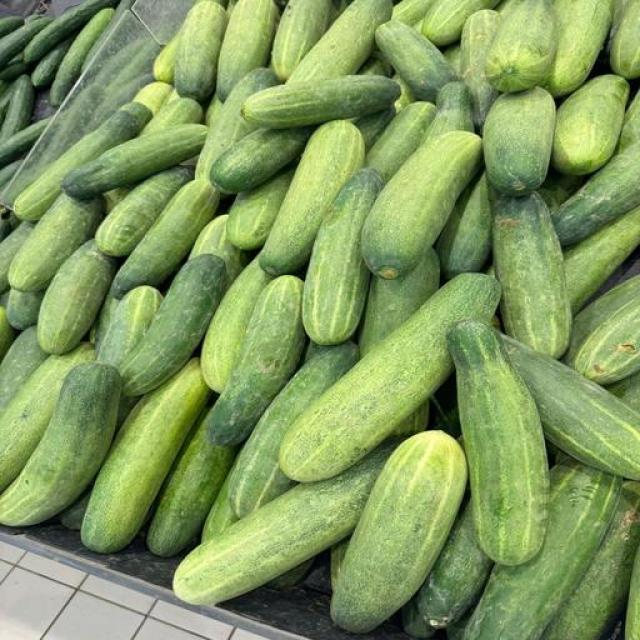organic: (280, 274, 499, 482), (174, 443, 394, 603), (464, 460, 621, 639), (332, 432, 467, 632), (82, 359, 209, 553), (448, 322, 548, 566), (229, 343, 358, 517), (0, 363, 121, 526), (503, 337, 639, 479), (363, 132, 482, 278), (205, 275, 304, 446), (259, 120, 364, 274), (14, 103, 151, 221), (120, 254, 227, 396), (544, 483, 639, 639), (303, 169, 383, 344), (0, 343, 93, 491), (492, 193, 571, 357), (112, 180, 218, 297), (147, 422, 236, 557), (62, 124, 207, 198), (413, 502, 493, 631), (202, 258, 272, 393), (9, 194, 103, 291), (195, 69, 277, 178), (38, 240, 116, 354), (553, 143, 639, 244), (359, 248, 439, 356), (95, 167, 192, 256), (288, 0, 392, 83), (359, 249, 439, 356), (242, 75, 399, 128), (565, 277, 639, 384), (483, 88, 556, 196), (564, 208, 639, 313), (552, 74, 628, 174), (544, 0, 619, 97), (210, 128, 313, 193), (375, 20, 456, 102), (485, 0, 557, 92), (83, 39, 157, 126), (49, 8, 114, 106), (565, 277, 639, 361), (217, 0, 278, 101), (435, 173, 492, 279), (84, 39, 158, 117), (24, 0, 116, 62), (365, 102, 436, 181), (174, 0, 227, 102), (227, 170, 293, 251), (97, 287, 162, 369), (272, 0, 333, 82), (460, 9, 499, 129), (84, 39, 157, 103), (189, 215, 248, 283), (0, 328, 47, 412), (83, 0, 136, 72), (422, 0, 499, 47), (423, 82, 473, 143), (0, 17, 53, 68), (202, 468, 238, 543), (0, 118, 51, 166), (142, 98, 203, 136), (0, 75, 34, 143), (610, 0, 639, 79), (0, 223, 33, 292), (32, 38, 73, 88), (354, 105, 396, 151), (538, 170, 583, 211), (133, 77, 178, 117), (89, 293, 119, 352), (0, 54, 26, 114), (7, 289, 44, 331), (267, 558, 314, 589), (133, 82, 174, 117), (402, 599, 437, 638), (153, 32, 179, 84), (0, 53, 32, 93), (59, 489, 89, 531), (625, 552, 639, 639), (608, 374, 639, 411), (619, 92, 639, 149), (393, 0, 434, 26), (330, 538, 349, 589), (392, 73, 416, 113), (300, 342, 339, 366), (393, 73, 416, 112), (0, 307, 17, 359), (0, 55, 29, 82), (0, 158, 23, 192), (358, 54, 392, 77), (609, 0, 628, 39), (0, 207, 19, 243), (104, 187, 131, 212), (118, 395, 138, 428), (0, 208, 19, 242), (443, 43, 461, 77), (0, 209, 19, 241), (447, 614, 471, 639), (204, 95, 222, 127), (0, 79, 12, 122), (0, 80, 12, 123), (0, 17, 23, 37), (0, 208, 12, 242), (0, 80, 9, 117), (333, 0, 352, 17), (537, 287, 552, 307), (334, 0, 352, 16), (0, 82, 9, 112), (497, 0, 512, 14), (0, 290, 9, 313), (0, 288, 9, 311)
